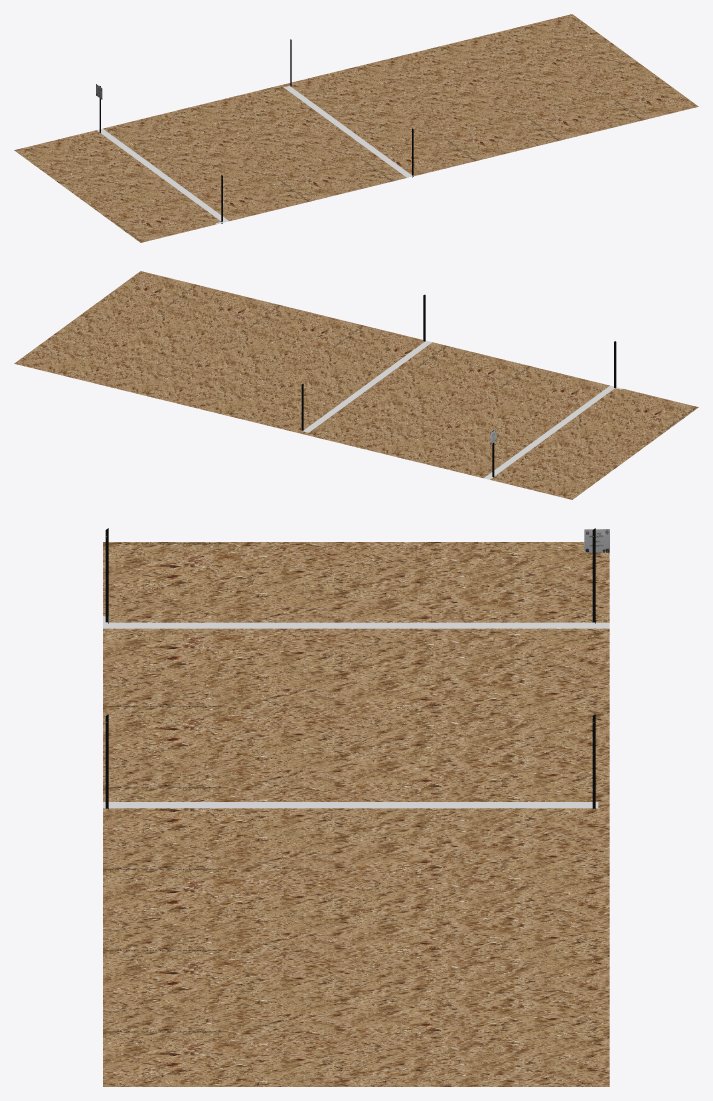
File: obstacle_open_night.glb
3 views of the same model, one above another, from view 1: azimuth 30°, elevation 25°; view 2: azimuth 150°, elevation 25°; view 3: azimuth 270°, elevation 25° (orthographic). The views are drawn at different scales.
Parts seen in each view (by area): view 1: Plane.004; view 2: Plane.004; view 3: Plane.004.
Part boxes in pixels (box(x1,y1,x2,y2)): Plane.004: box(14, 14, 698, 242); Plane.004: box(14, 271, 698, 499); Plane.004: box(103, 528, 609, 1086).
Size of the model in its own units: 12.86 by 1.07 by 5.05.
5 materials, 2 textured.
